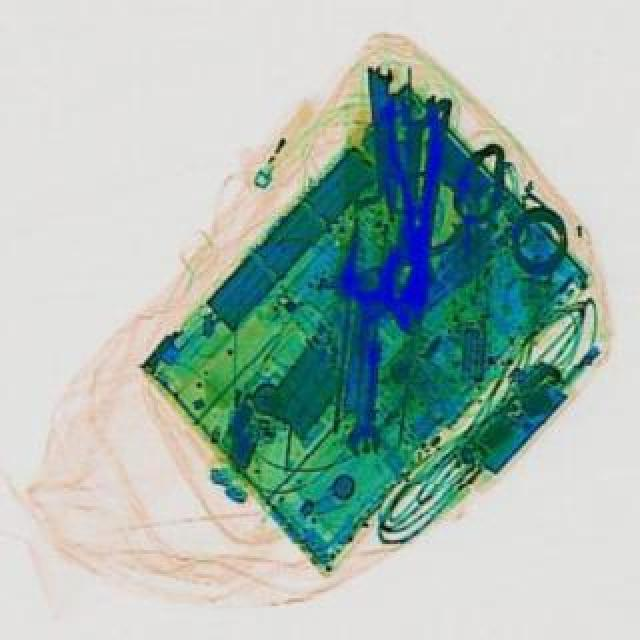scissors: (342, 264, 394, 454)
